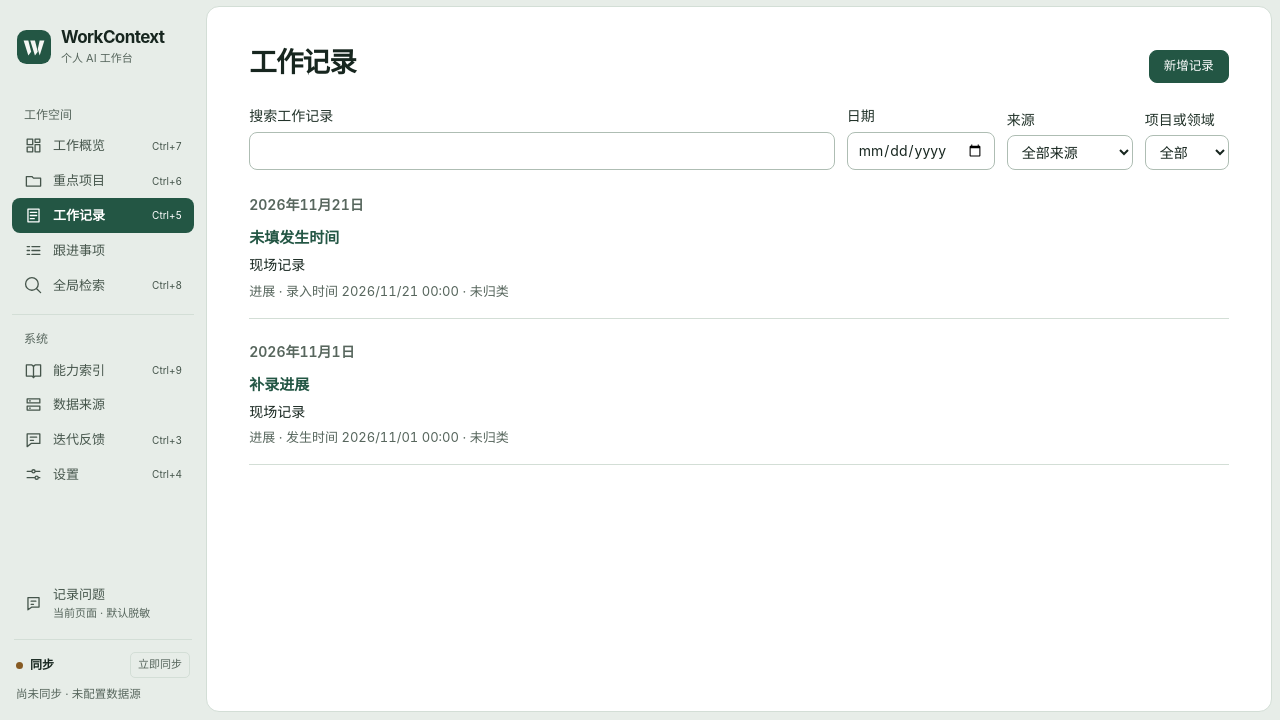
Test: 桌面工作上下文 › 列表标明时间来源，详情可核对发生时间和录入时间
Click the link "补录进展". click: (279, 384)
box: [249,375,309,394]
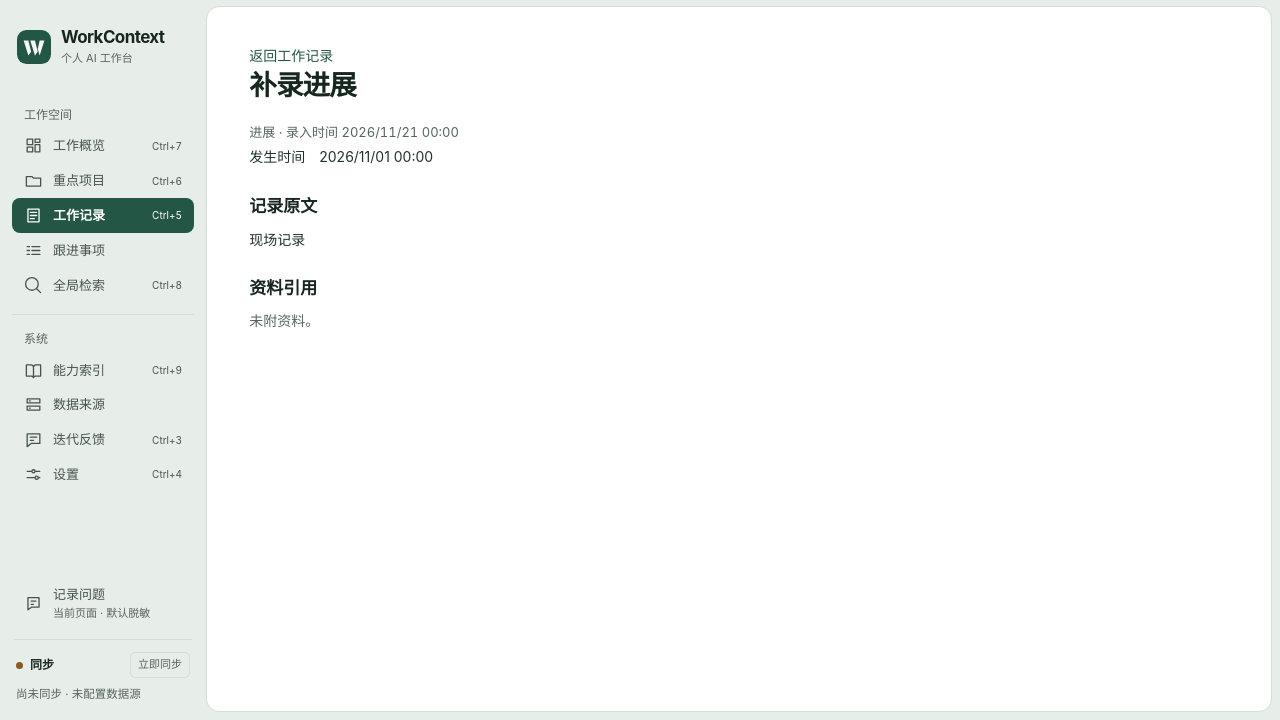
Check: the heading "补录进展" is shown, box [249,68,356,102]
